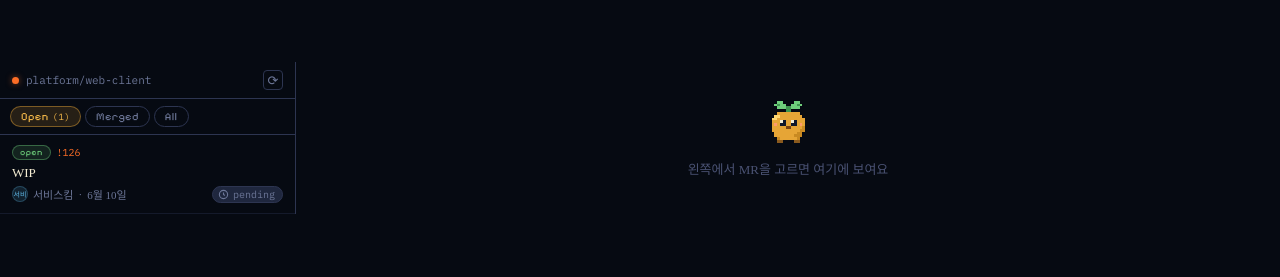
Scenario: MRView — GitLab MR 뷰 (GL7) › 파이프라인 배지: running은 info 블루(pipe-run), 주황 아님
Expected: the text "!126" is shown, left=56, top=146, right=80, bottom=159
# 버그3: 상세를 보려면 먼저 목록에서 선택한다.
Click the text "WIP" at (24,173), box left=12, top=165, right=36, bottom=180
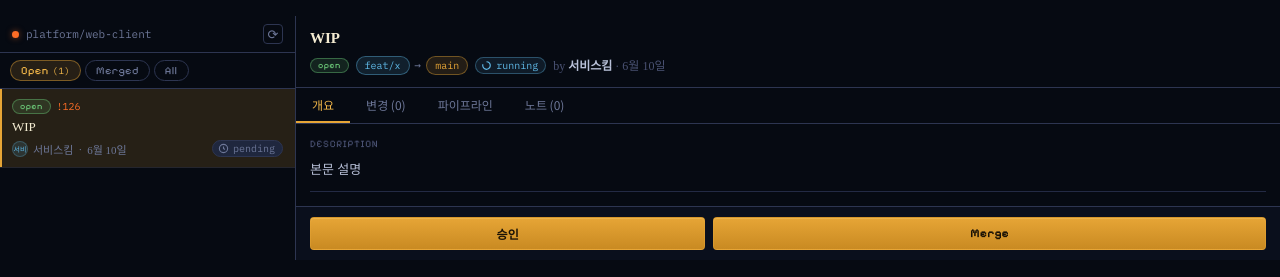
Now the element showing "running" is shown, box left=475, top=57, right=546, bottom=74
